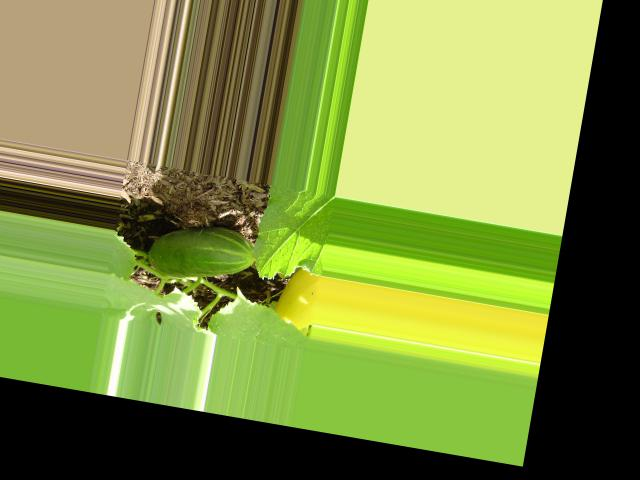cucumber: (144, 214, 259, 290)
